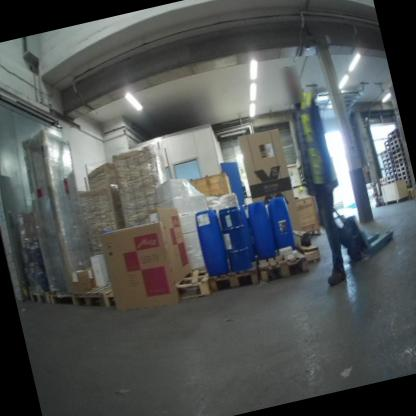pallet: (203, 245, 269, 296), (252, 242, 313, 292), (168, 257, 217, 303), (69, 275, 123, 314), (26, 278, 53, 312), (104, 286, 130, 314), (50, 286, 75, 309), (380, 140, 391, 159), (380, 152, 394, 163), (382, 155, 395, 166), (386, 128, 399, 139), (387, 133, 401, 143), (393, 156, 407, 165), (396, 165, 410, 174), (386, 177, 400, 186), (392, 150, 405, 159), (391, 147, 404, 155), (395, 160, 408, 168), (386, 175, 399, 183), (383, 161, 396, 169), (398, 174, 412, 181), (384, 165, 396, 173), (389, 139, 400, 147), (397, 171, 410, 177), (390, 144, 401, 151), (408, 192, 416, 201), (385, 171, 397, 177), (379, 176, 388, 184), (407, 187, 416, 194), (385, 143, 391, 149), (405, 179, 412, 184), (406, 183, 413, 188)
pallet_truck: (298, 151, 405, 279)
